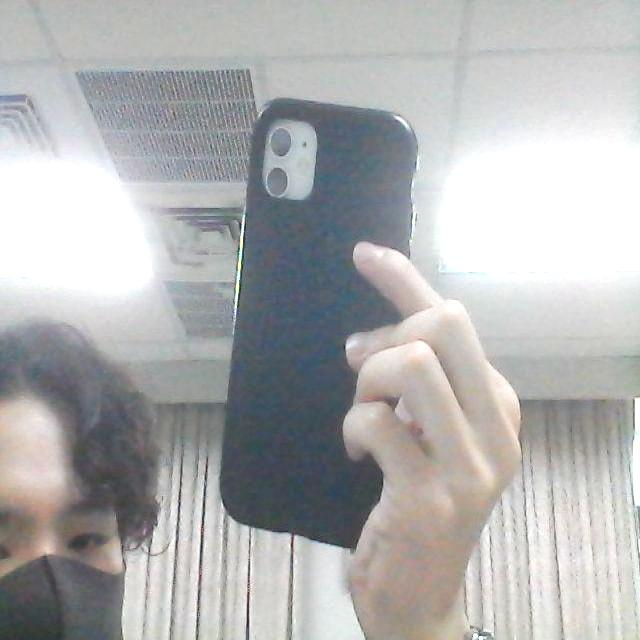lens: (259, 117, 322, 200)
phone: (219, 91, 432, 553)
